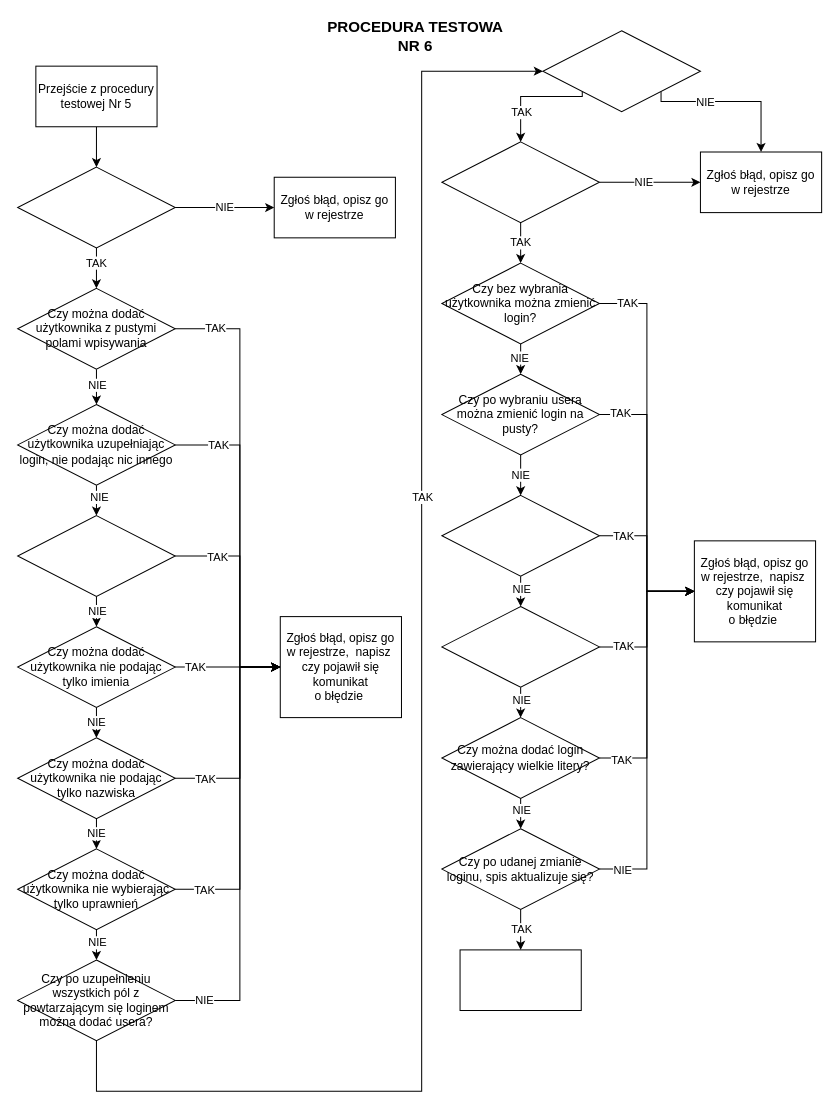
Some shapes in this 839 by 1117 pixel diagram are drawn without their labels. Here are the shapes that lost their labels. From the top down, the box of each, then its label:
(542, 30, 700, 112): Czy po uzupełnieniu okien poprawnie można dodać usera?
(441, 141, 599, 223): Czy po dodaniu usera, spis userów został zaktualizowany?
(17, 166, 175, 248): Czy w oknie widać wszystkie formularze oraz spis userów
(441, 494, 599, 576): Czy po wybraniu usera można zmienić login na już istniejący?
(17, 515, 175, 596): Czy można dodać użytkownika nie podając nic poza loginem i hasłem
(441, 605, 599, 687): Czy po wybraniu usera można zmienić login na unikalny?
(459, 949, 581, 1011): Przejdź do procedury testowej Nr 7
